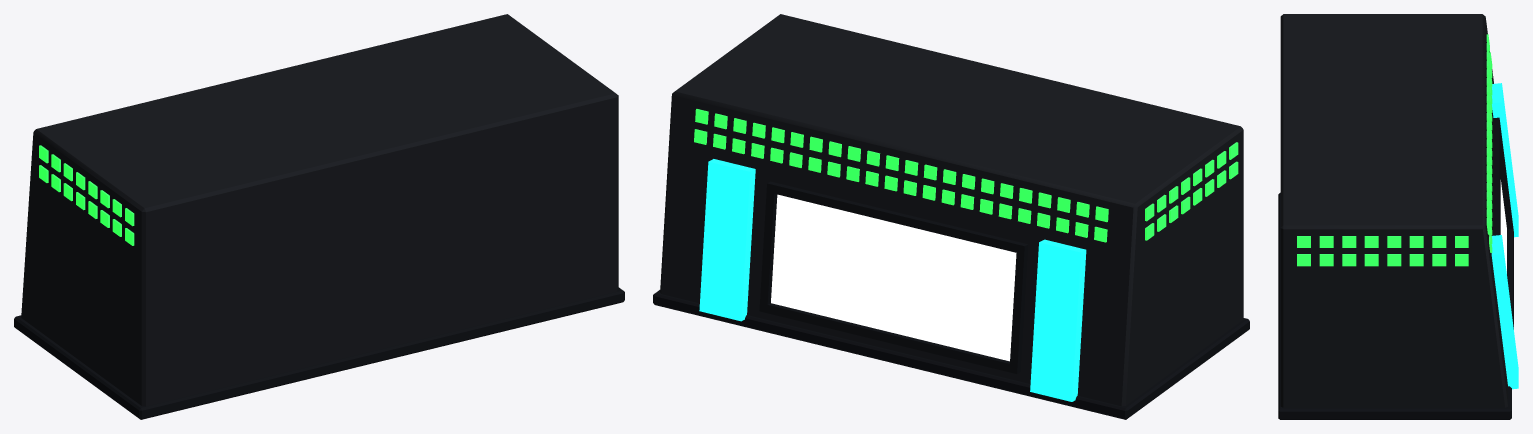
The model's file is deck_pillars.glb.
3 views of the same model, side by side, from view 1: azimuth 30°, elevation 25°; view 2: azimuth 150°, elevation 25°; view 3: azimuth 270°, elevation 25° (orthographic). The views are drawn at different scales.
Parts seen in each view (by area): view 1: deck_pillars_deco_body, deck_pillars_deco_trim, deck_pillars_deco_led; view 2: deck_pillars_deco_body, deck_pillars_acrylic_sign, deck_pillars_deco_trim, deck_pillars_deco_neon, deck_pillars_deco_led; view 3: deck_pillars_deco_body, deck_pillars_deco_trim, deck_pillars_deco_led, deck_pillars_deco_neon, deck_pillars_acrylic_sign.
Boxes of the visible parts, x1,y1,x2,y2 form: deck_pillars_deco_body: [21, 14, 618, 406]; deck_pillars_deco_trim: [14, 287, 624, 419]; deck_pillars_deco_led: [39, 145, 134, 245]; deck_pillars_deco_body: [660, 14, 1243, 406]; deck_pillars_acrylic_sign: [771, 194, 1016, 361]; deck_pillars_deco_trim: [653, 181, 1249, 419]; deck_pillars_deco_neon: [699, 159, 1086, 401]; deck_pillars_deco_led: [694, 109, 1238, 242]; deck_pillars_deco_body: [1280, 14, 1507, 407]; deck_pillars_deco_trim: [1278, 117, 1513, 419]; deck_pillars_deco_led: [1297, 34, 1492, 266]; deck_pillars_deco_neon: [1491, 83, 1518, 389]; deck_pillars_acrylic_sign: [1500, 180, 1506, 273].
Bounding box in the file's own units: 2.14 × 0.88 × 0.9987.
